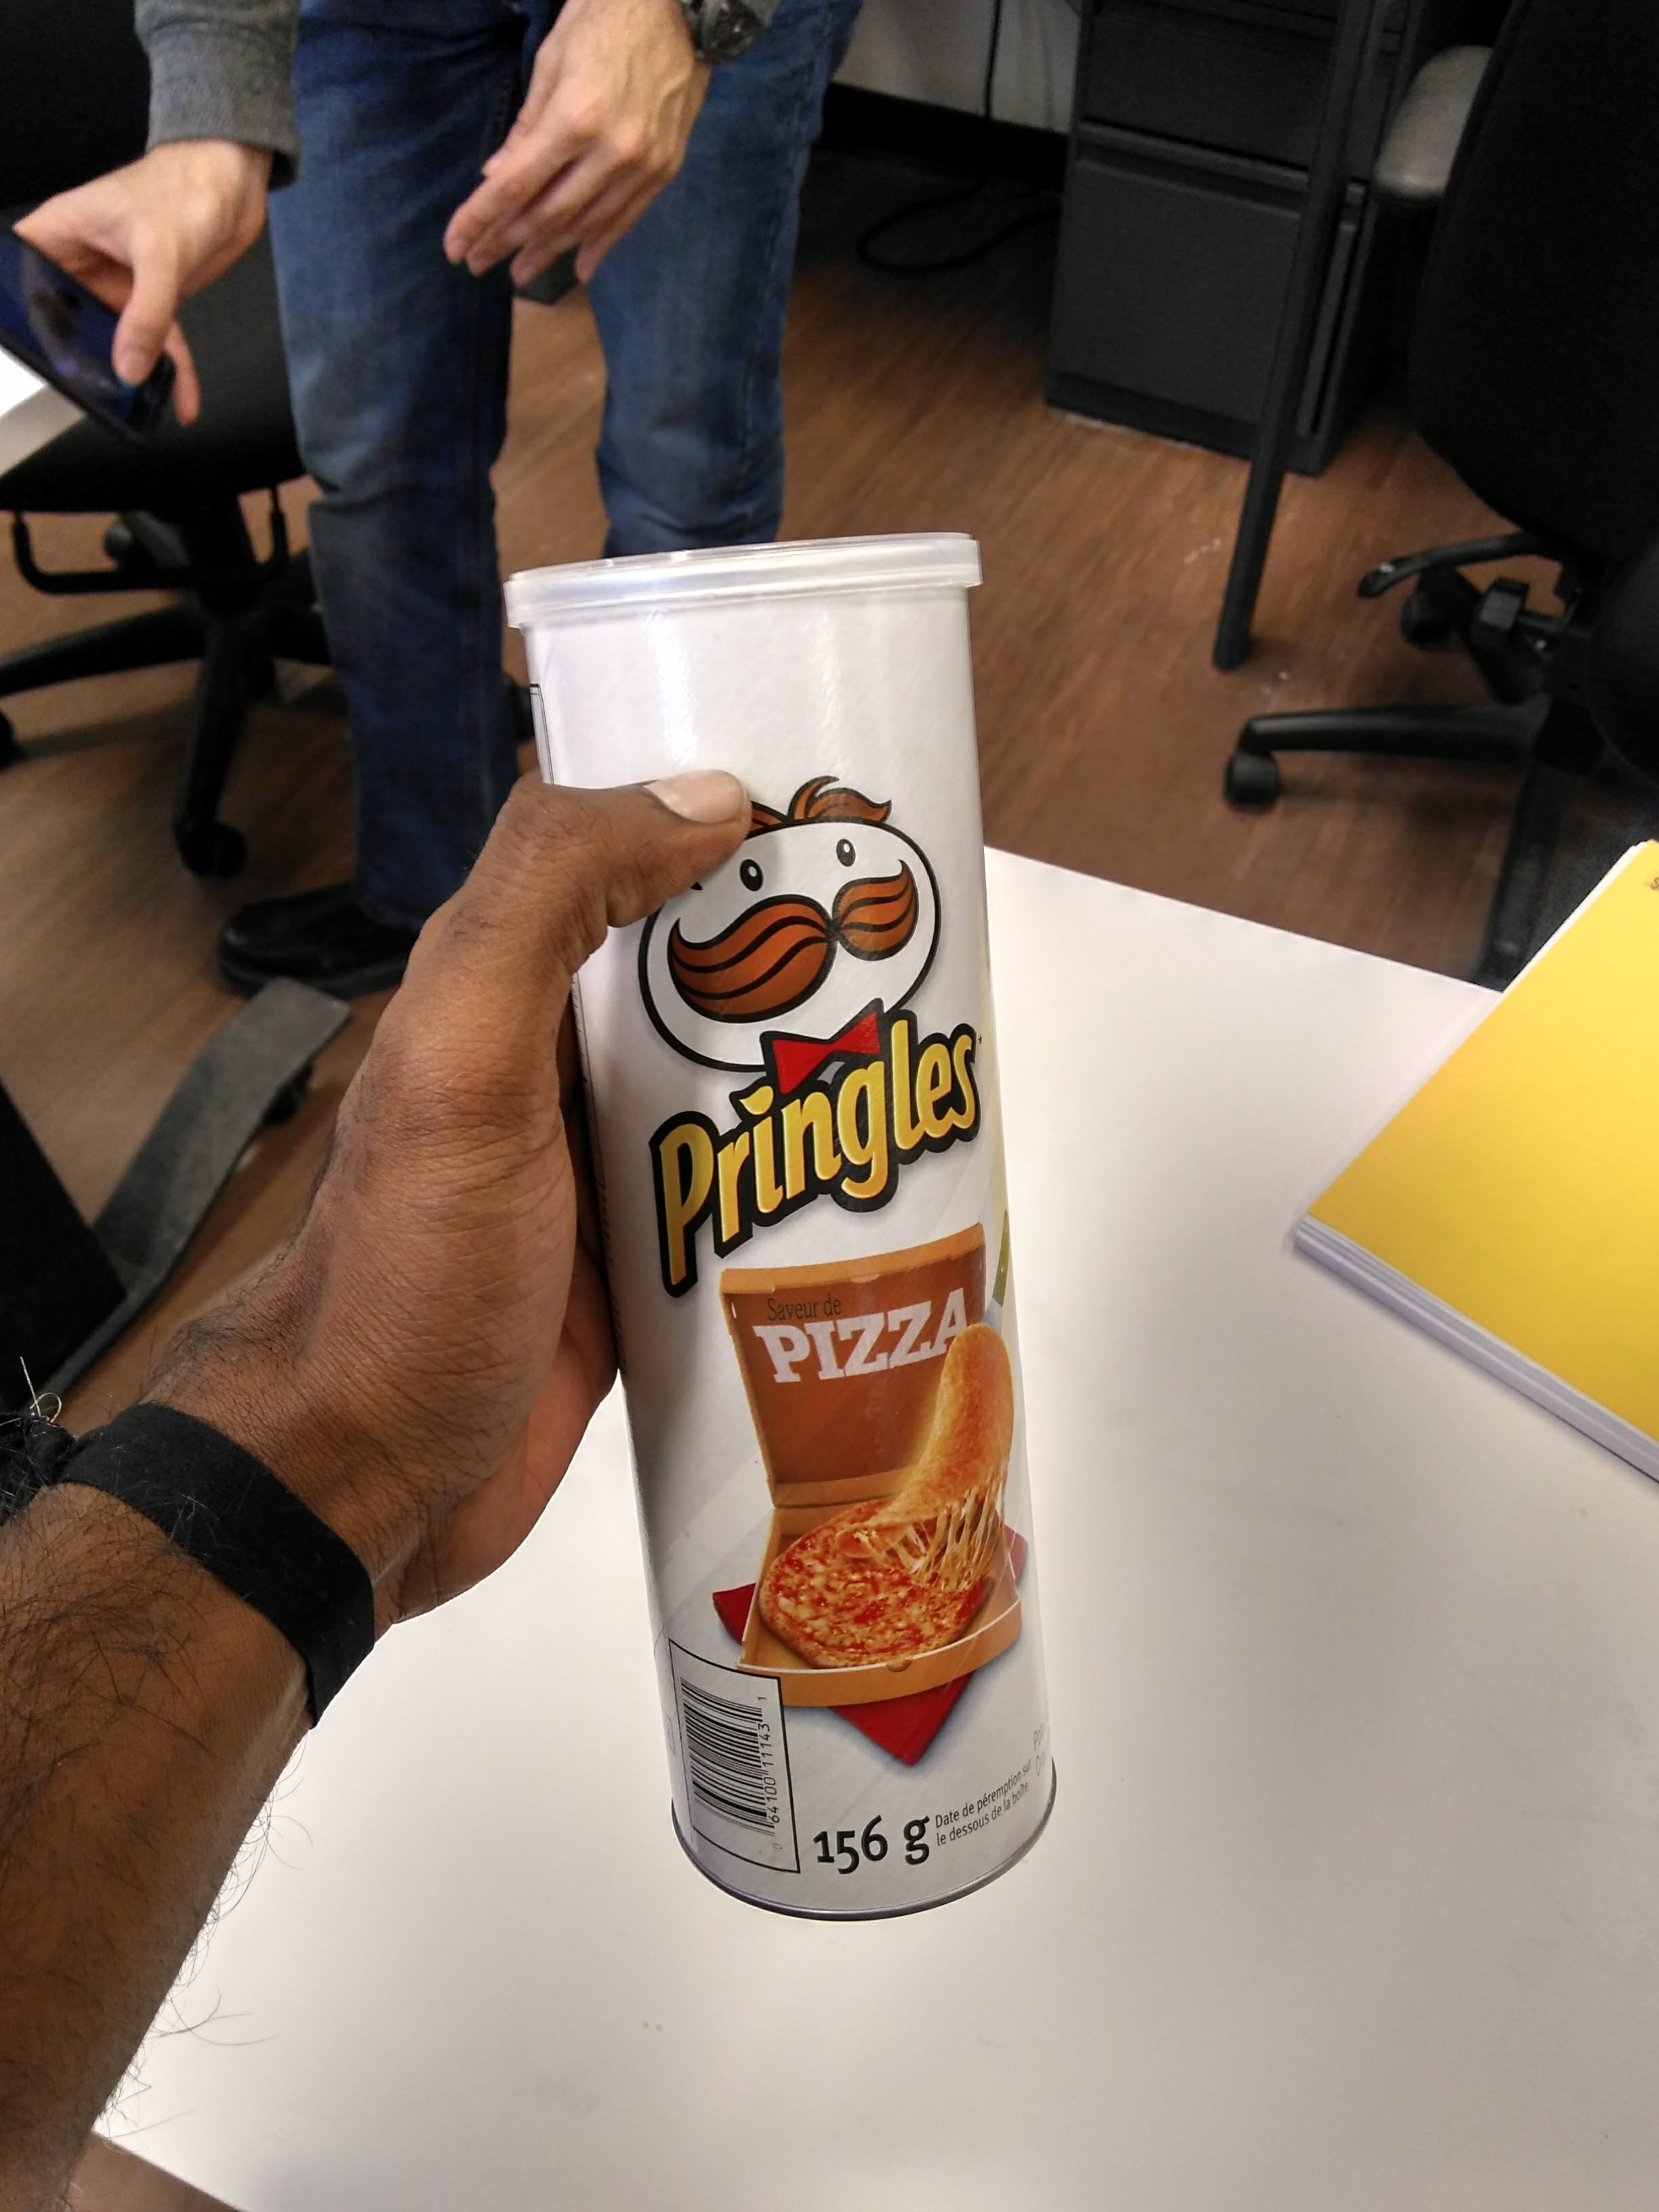pringles: (476, 536, 1150, 1930)
